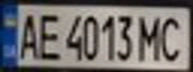0: (81, 10, 100, 61)
1: (100, 11, 118, 62)
3: (115, 11, 139, 62)
4: (60, 10, 84, 62)
A: (12, 9, 42, 61)
C: (154, 11, 190, 63)
E: (33, 9, 63, 61)
M: (136, 11, 166, 62)
